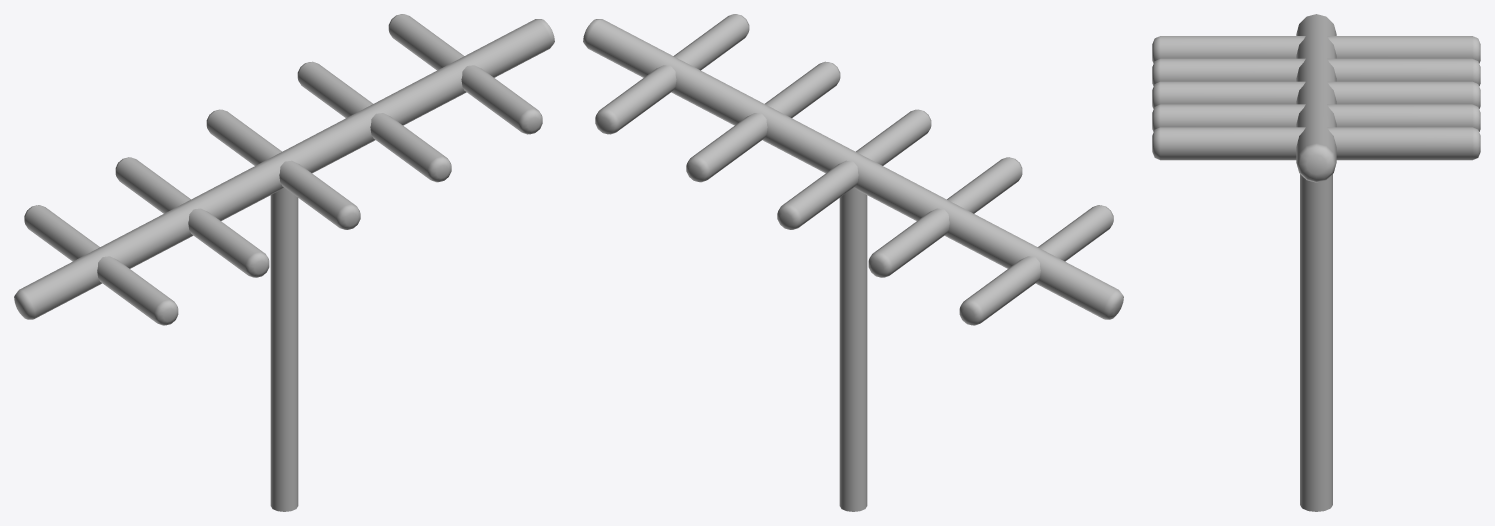
Rendered from Town_15_Antenna_1.glb.
3 views of the same model, side by side, from view 1: azimuth 30°, elevation 25°; view 2: azimuth 150°, elevation 25°; view 3: azimuth 270°, elevation 25° (orthographic). The views are drawn at different scales.
Visible parts, largest first — view 1: Town_15_Antenna_1; view 2: Town_15_Antenna_1; view 3: Town_15_Antenna_1.
Boxes of the visible parts, left/top/right/bottom form: Town_15_Antenna_1: left=14, top=14, right=554, bottom=511; Town_15_Antenna_1: left=583, top=14, right=1123, bottom=511; Town_15_Antenna_1: left=1152, top=14, right=1480, bottom=511.
Bounding box in the file's own units: 3.2 × 2.43 × 1.41.
1 material, 1 textured.
